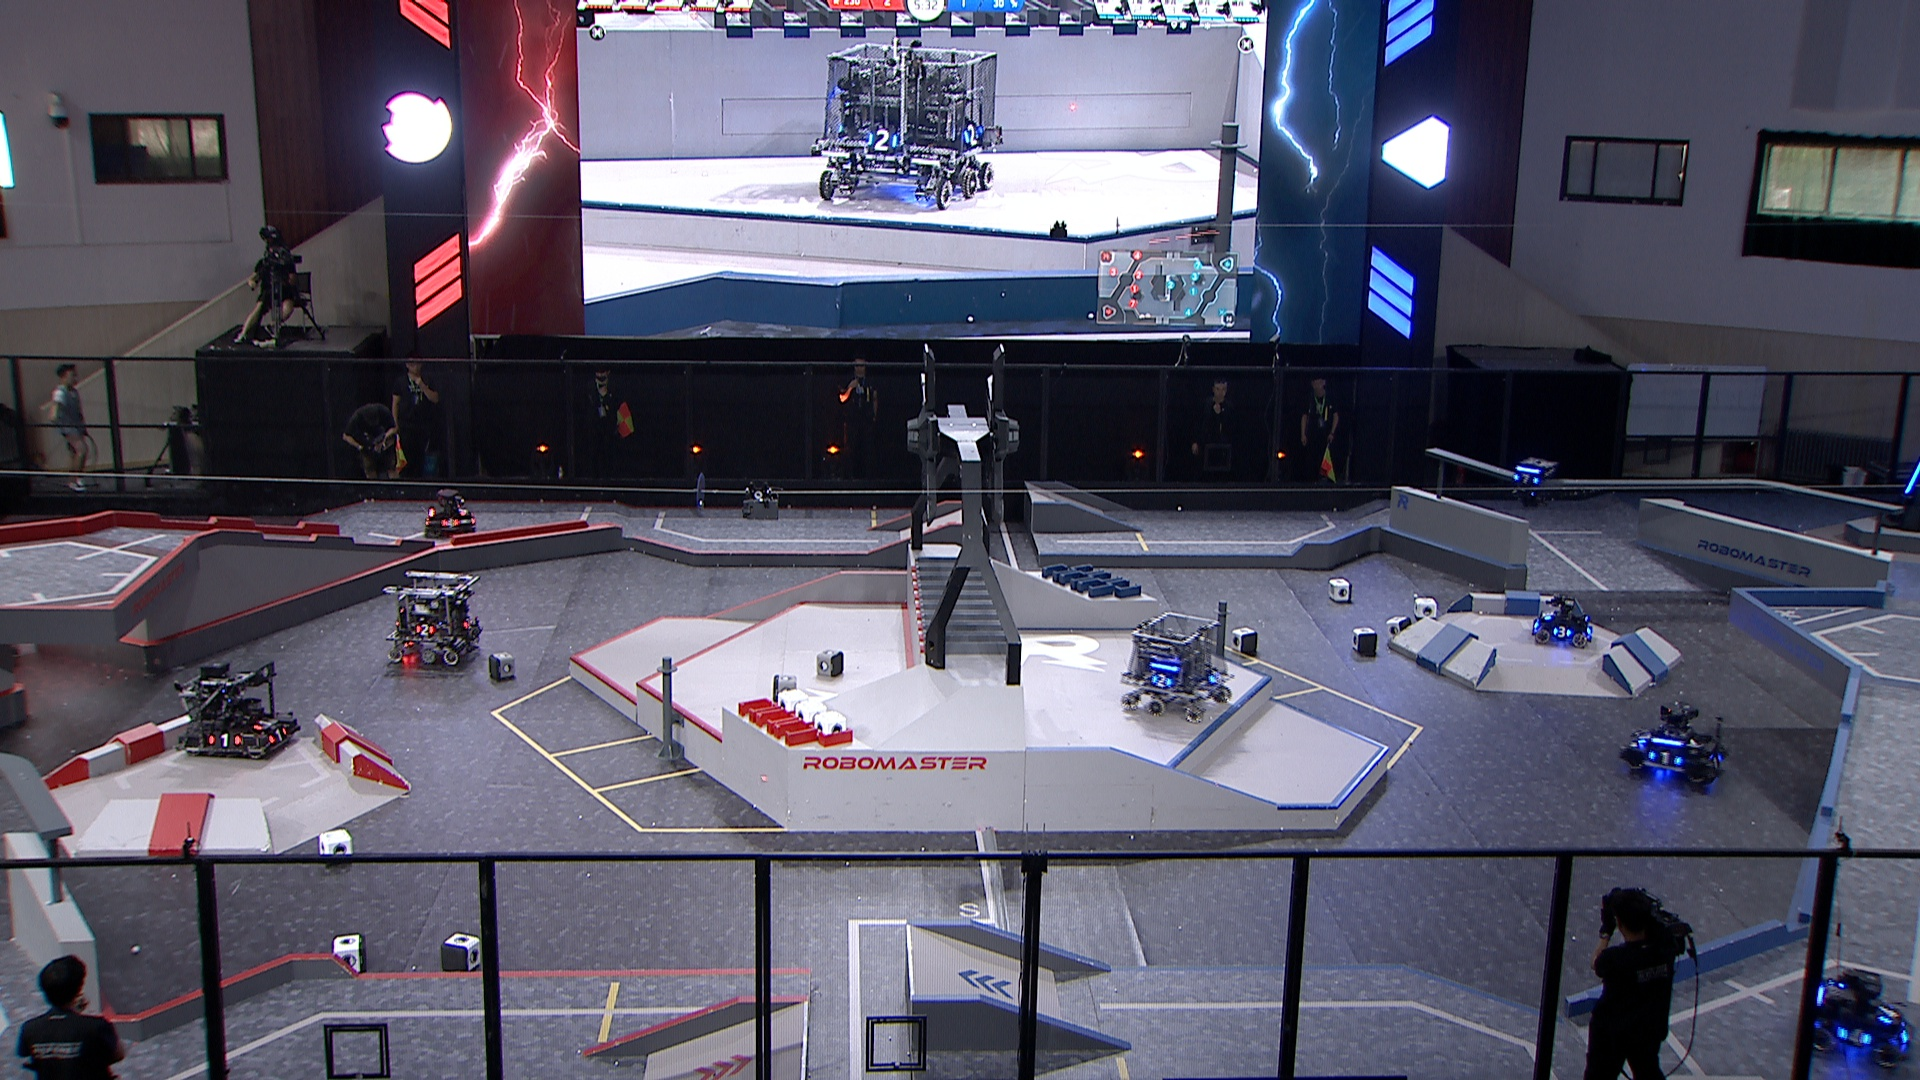armor: (1840, 1025, 1874, 1048), (1647, 746, 1683, 769), (1903, 463, 1920, 498), (207, 732, 243, 749), (1875, 1001, 1899, 1026), (1633, 728, 1656, 746), (1513, 472, 1542, 487), (266, 727, 290, 744), (251, 717, 277, 731), (1150, 674, 1174, 688), (414, 622, 436, 637), (1708, 752, 1724, 771), (1207, 669, 1224, 684), (439, 517, 462, 529), (1552, 626, 1572, 638), (462, 616, 475, 632), (1542, 611, 1556, 622)
base: (1879, 447, 1920, 538)
car: (1121, 611, 1234, 725), (175, 661, 299, 761), (1804, 965, 1917, 1071), (385, 566, 483, 669), (1619, 700, 1730, 787), (1528, 593, 1596, 647), (425, 488, 479, 535)
ignore: (811, 40, 1006, 210)
watcher: (1513, 458, 1555, 505)
